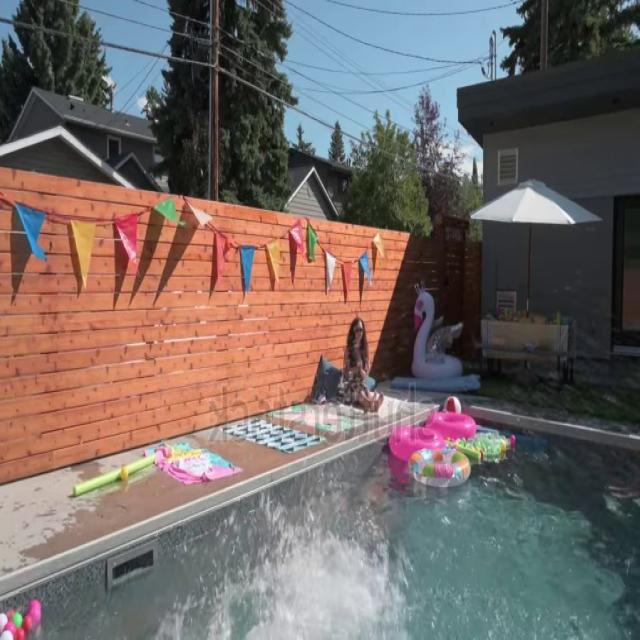adult: (332, 320, 384, 408)
